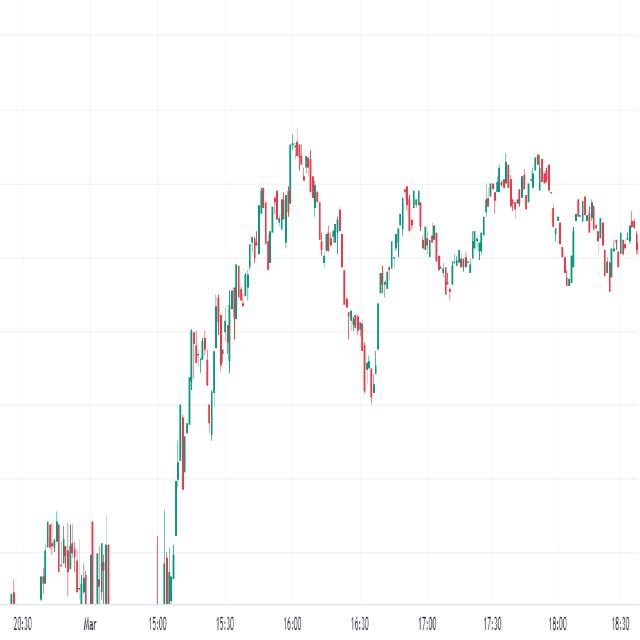Channel-up: (154, 139, 306, 516)
Head-Shoulders: (246, 117, 353, 330)
